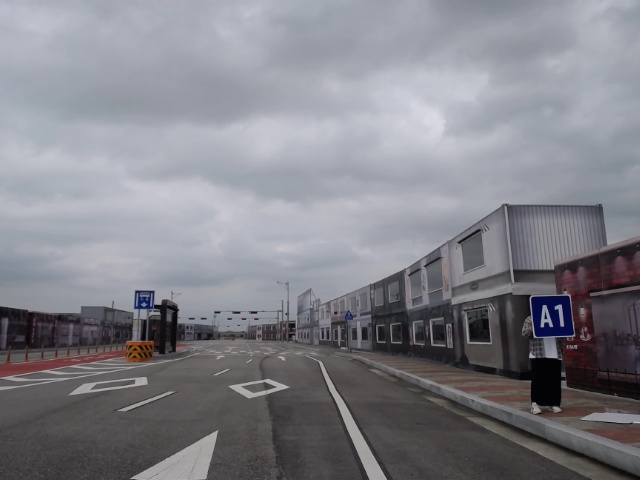delivery_a1: (530, 294, 575, 337)
